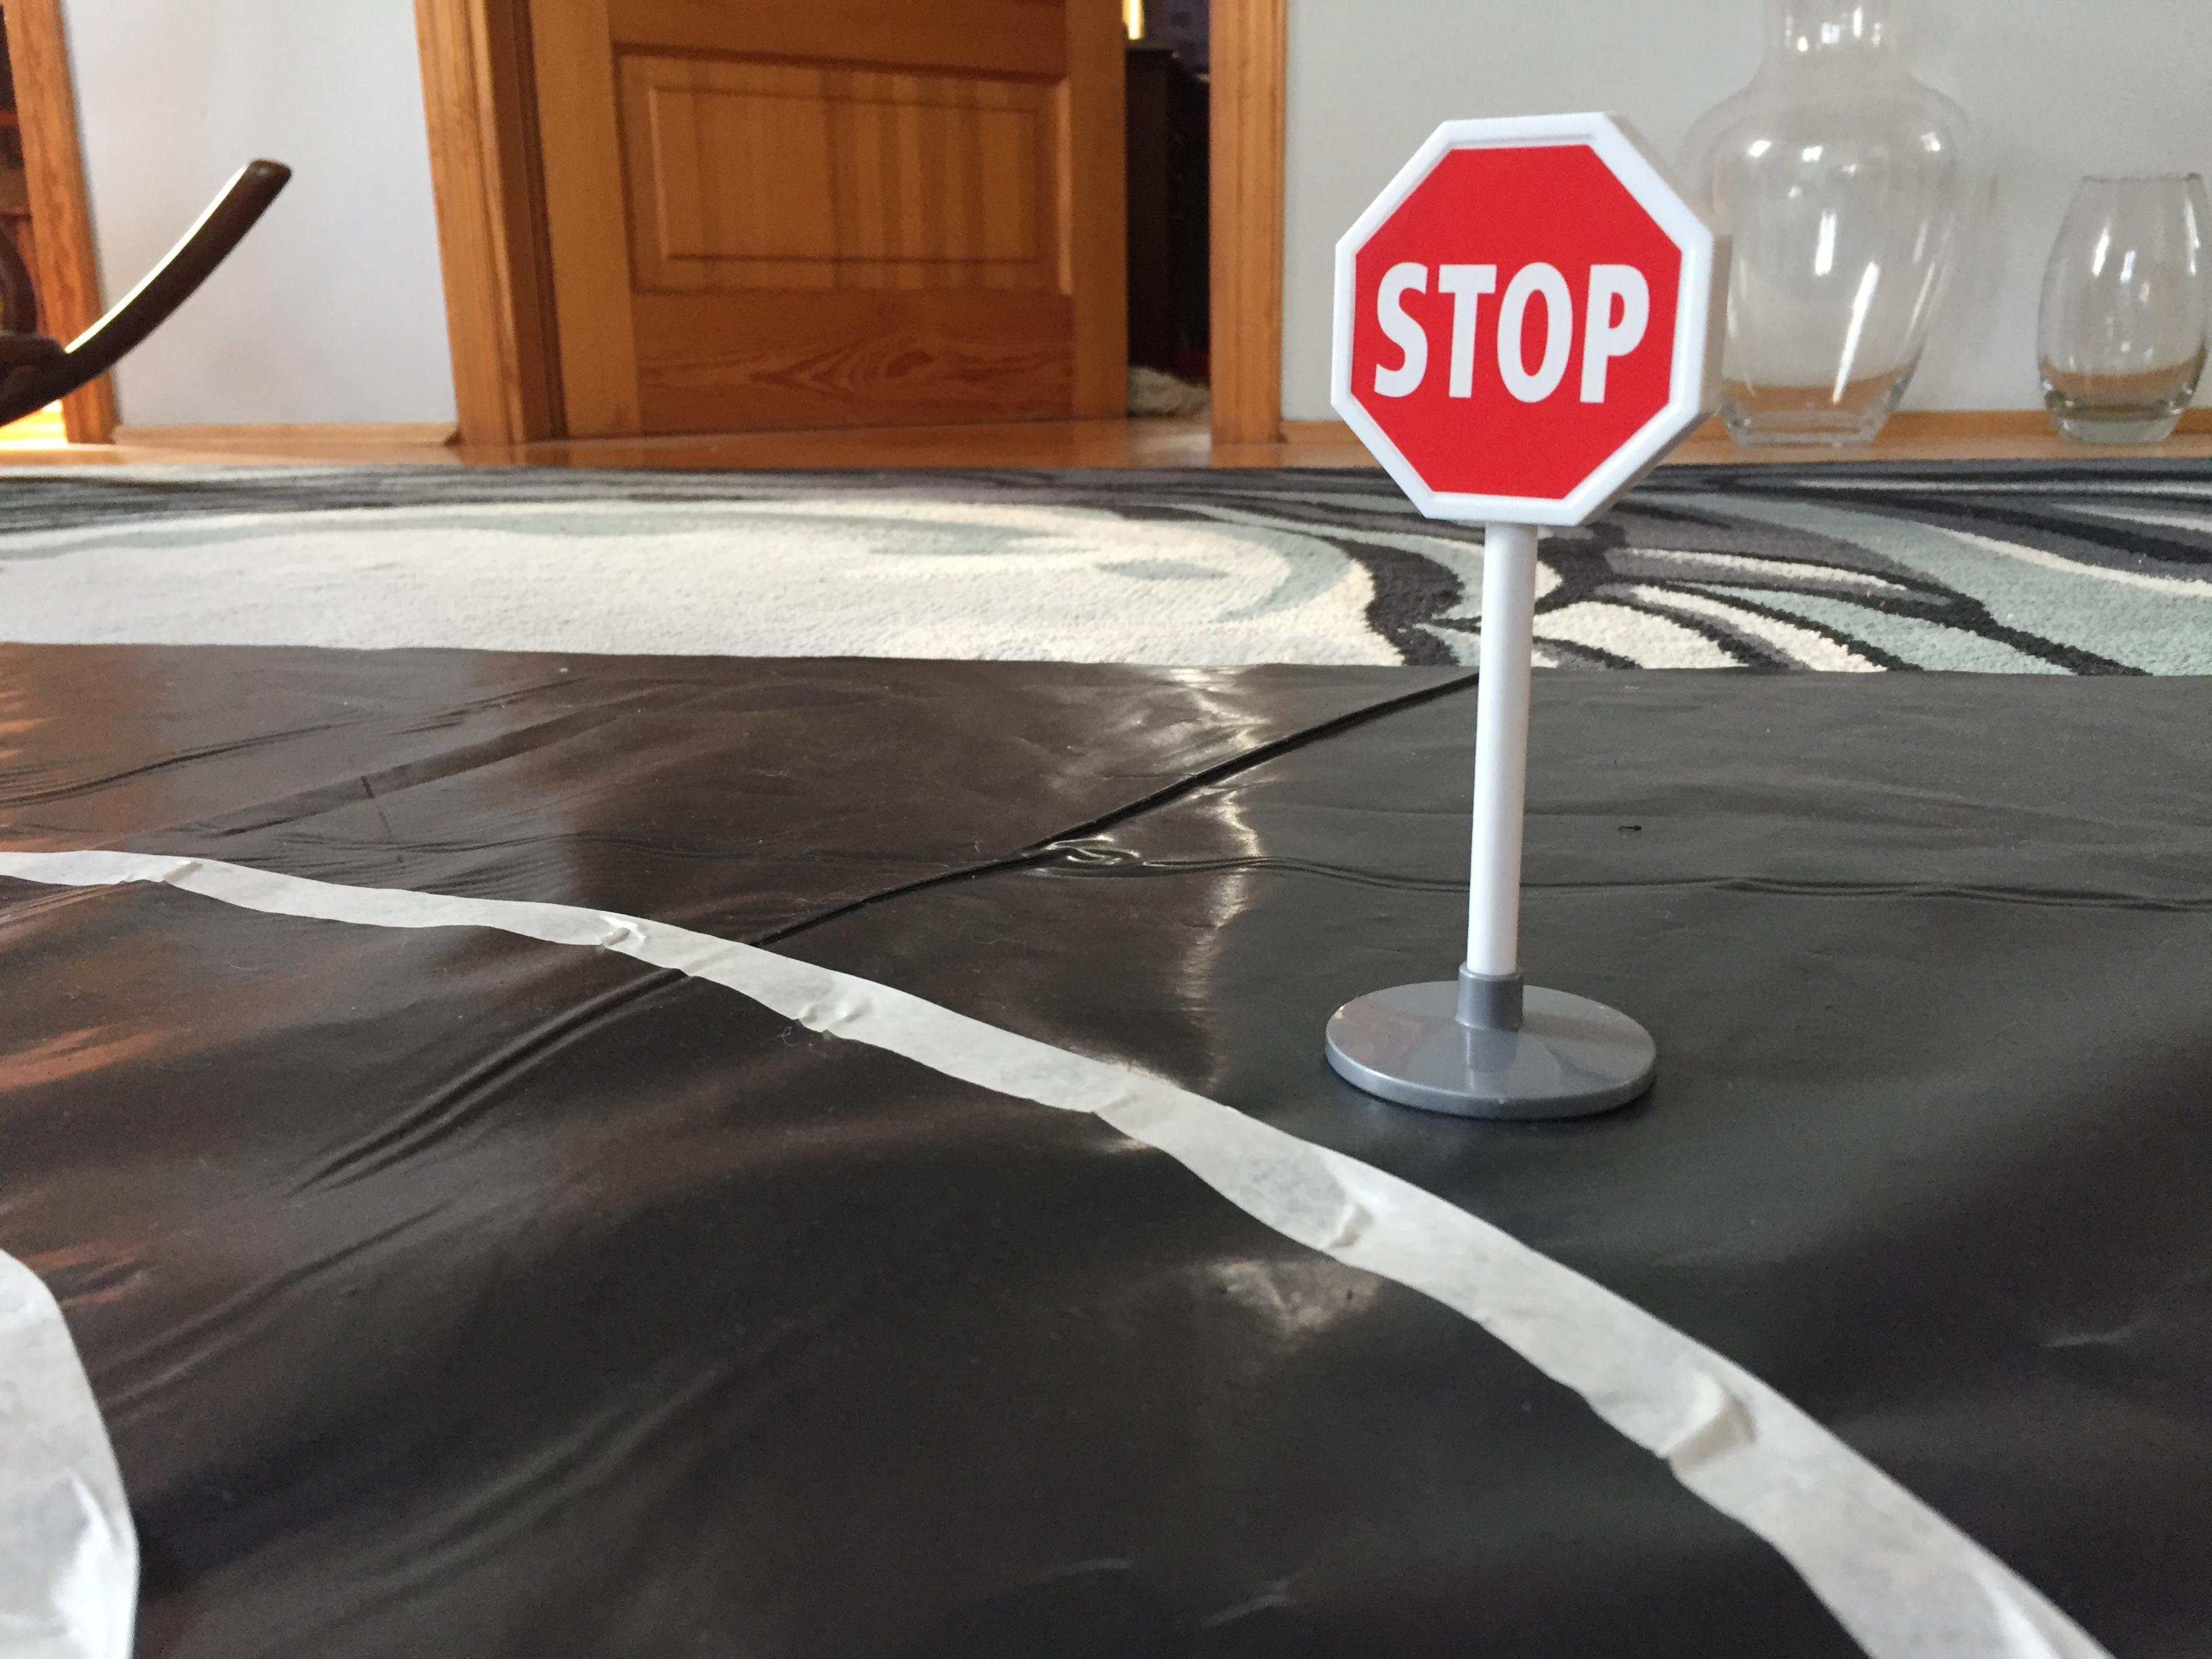stop: (1315, 98, 1749, 547)
